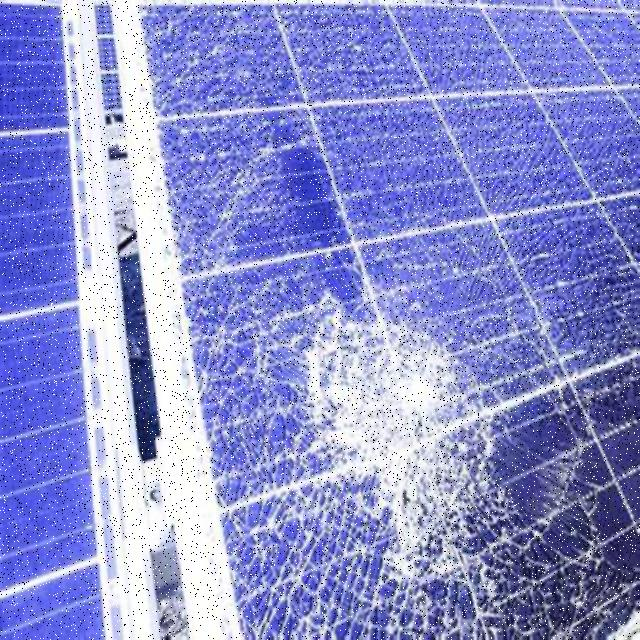physical damage: (127, 3, 640, 639)
